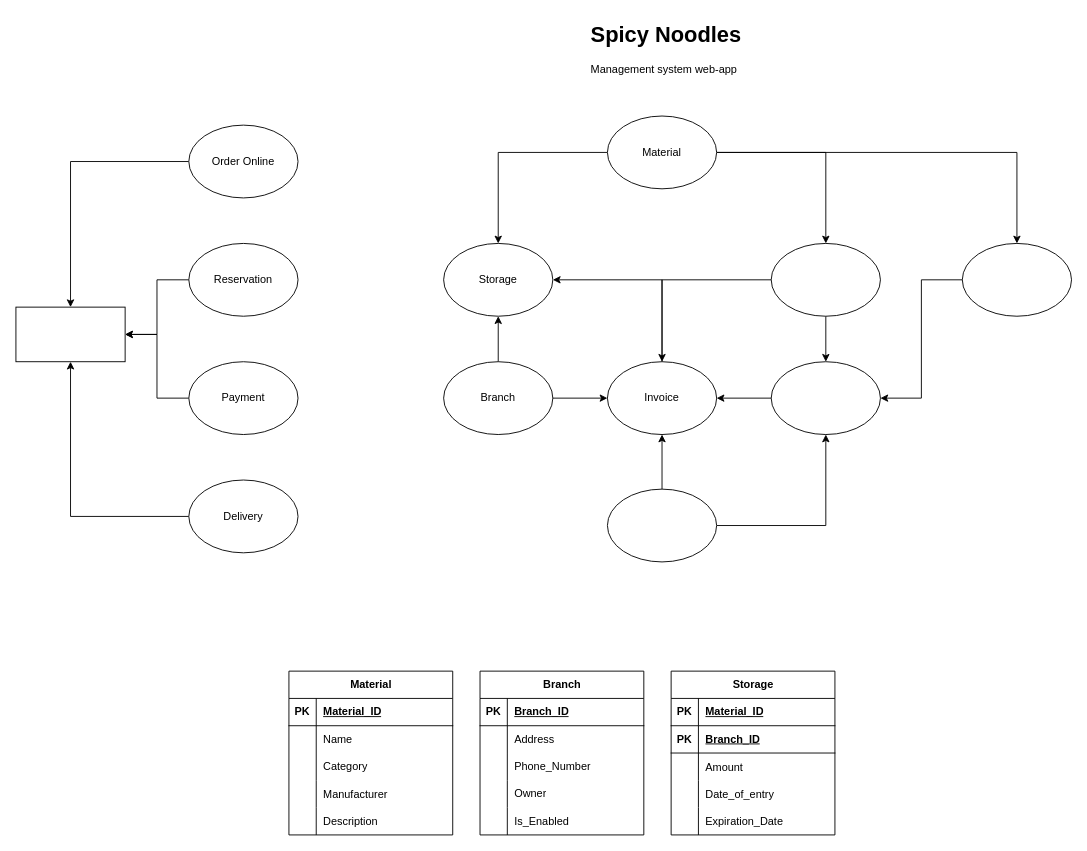
Some shapes in this 1087 by 851 pixel diagram are drawn without their labels. Each missing label, with the centre of its shape:
"Coming soon" belongs at pixel 70 334.
"Dish" belongs at pixel 1016 279.
"Order Offline" belongs at pixel 825 398.
"Soft Drink" belongs at pixel 825 279.
"Staff" belongs at pixel 662 525.
